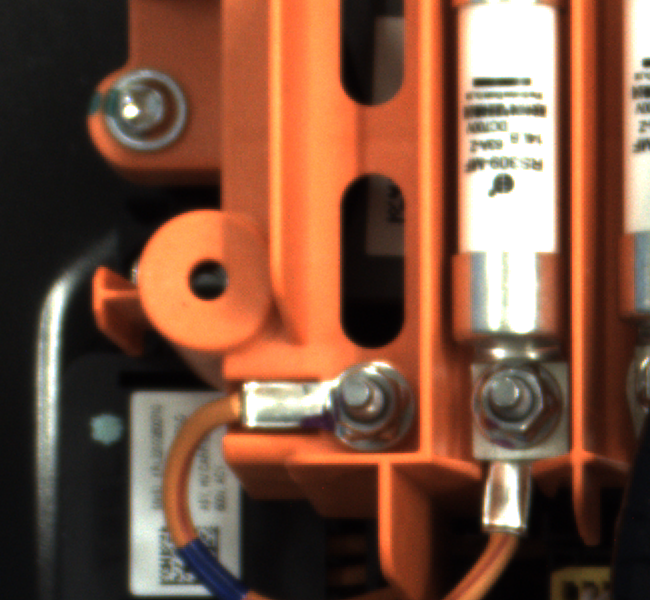screw_m: (82, 66, 205, 155)
screw_s: (464, 361, 574, 459), (319, 358, 411, 455)
